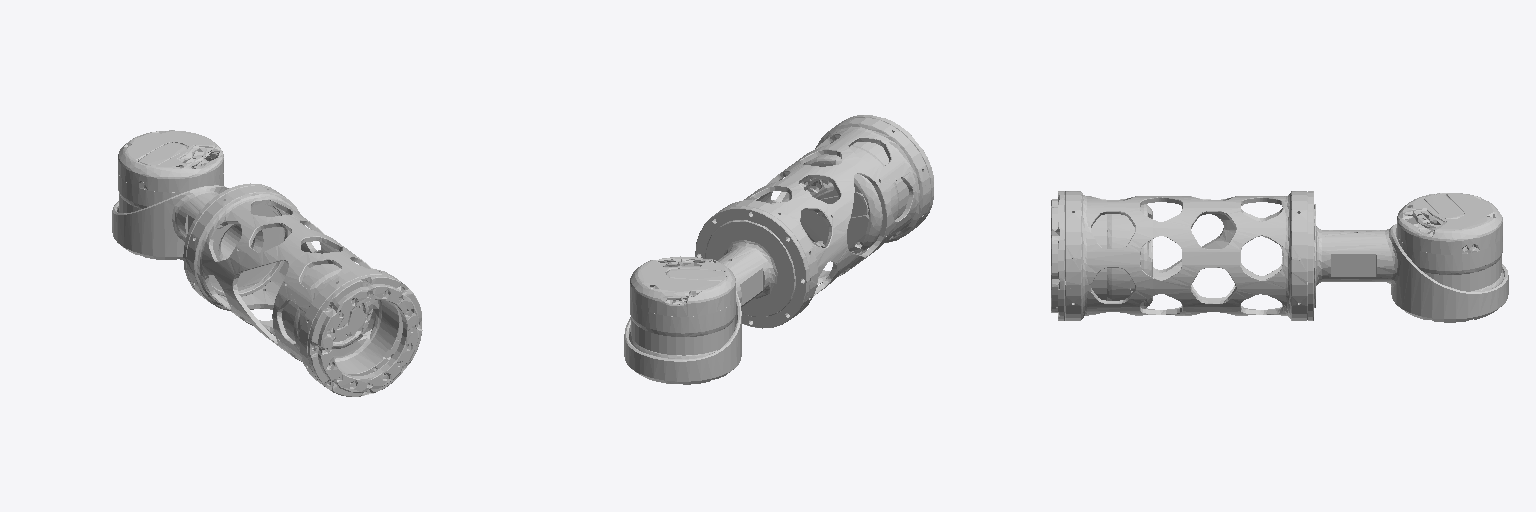
File: right_upper_arm_yaw_link.obj
3 views of the same model, side by side, from view 1: azimuth 30°, elevation 25°; view 2: azimuth 150°, elevation 25°; view 3: azimuth 270°, elevation 25° (orthographic).
Parts seen in each view (by area): view 1: right_upper_arm_yaw_link; view 2: right_upper_arm_yaw_link; view 3: right_upper_arm_yaw_link.
Boxes of the visible parts, x1,y1,x2,y2 form: right_upper_arm_yaw_link: [112, 130, 422, 396]; right_upper_arm_yaw_link: [624, 115, 933, 384]; right_upper_arm_yaw_link: [1051, 191, 1508, 322].
Bounding box in the file's own units: 0.062 × 0.062 × 0.2185.